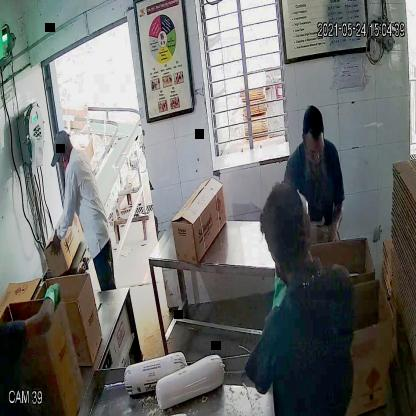goggles: (303, 140, 328, 160)
